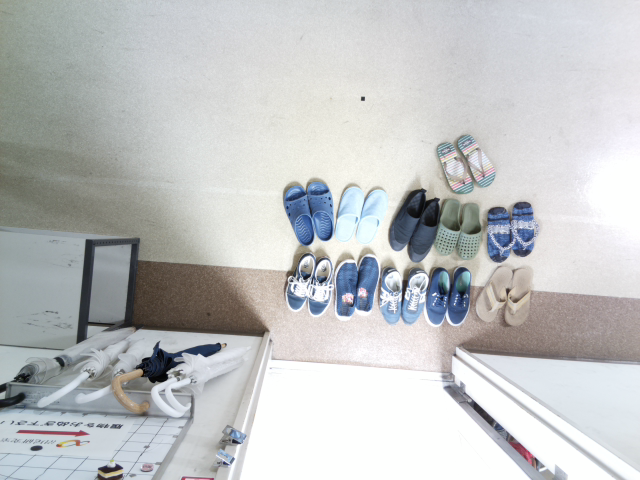Copy of Copy of Copy of Copy of Copy of Copy of Copy of Copy of Copy of Copy of: (387, 182, 430, 255), (406, 192, 444, 267), (428, 191, 465, 261), (450, 199, 487, 269), (281, 248, 318, 318), (330, 257, 361, 324), (355, 252, 386, 319), (375, 262, 406, 329), (398, 261, 428, 329), (307, 254, 335, 323), (424, 263, 452, 330), (448, 263, 476, 329)
Copy of Copy of Copy of Copy of Copy of Copy of Copy of Copy of Copy of shoe: (356, 181, 393, 255)
Copy of Copy of Copy of Copy of Copy of Copy of Copy of Copy of shoe: (330, 178, 366, 252)
Copy of Copy of Copy of Copy of Copy of Copy of Copy of shoe: (302, 172, 338, 247)
Copy of Copy of Copy of Copy of Copy of Copy of shoe: (279, 177, 318, 249)
Copy of Copy of Copy of Copy of Copy of shoe: (471, 261, 516, 329)
Copy of Copy of Copy of Copy of shoe: (502, 262, 538, 331)
Copy of Copy of Copy of shoe: (481, 199, 519, 270)
Copy of Copy of shoe: (507, 192, 545, 263)
Copy of shoe: (456, 129, 500, 192)
shoe: (432, 135, 476, 198)
